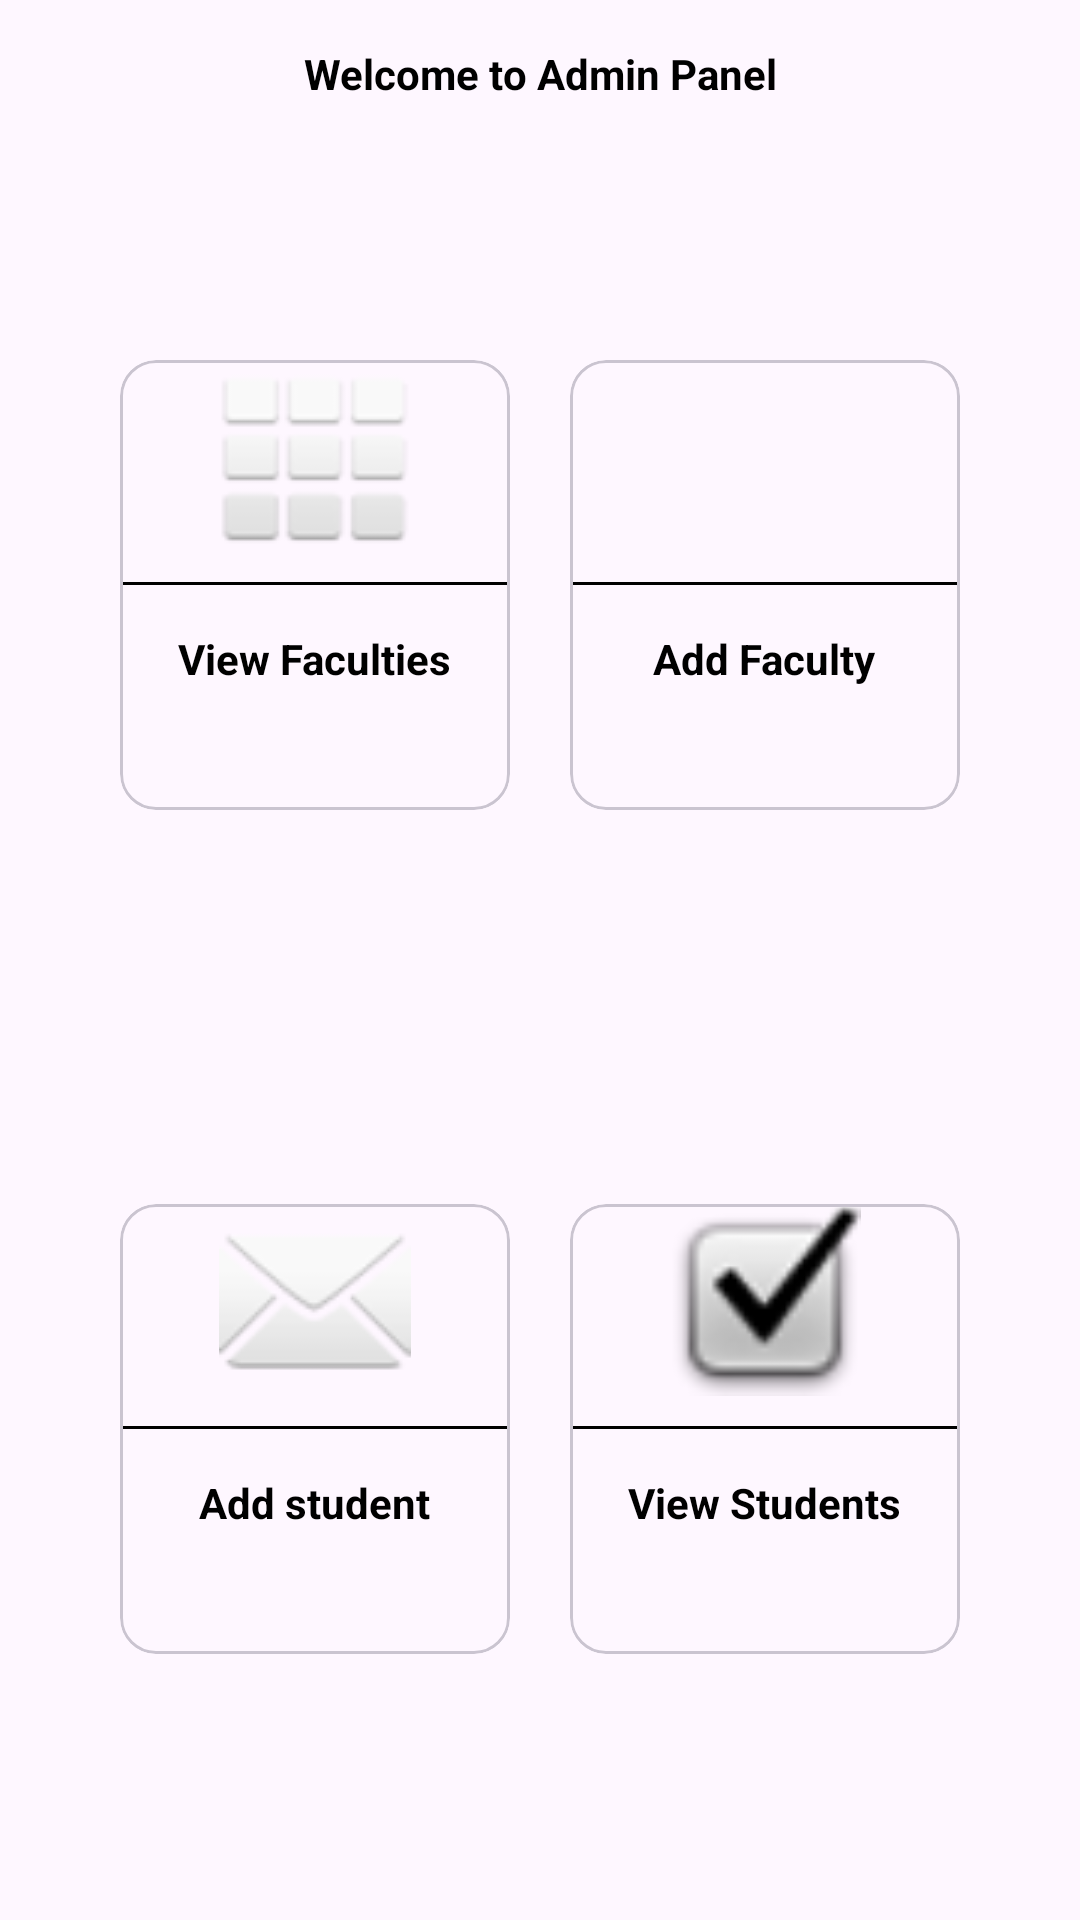

Screen size 1080px×1920px. Icon name, then its center in pixels as (x,y):
dialer: (314,478)
email: (315,1303)
